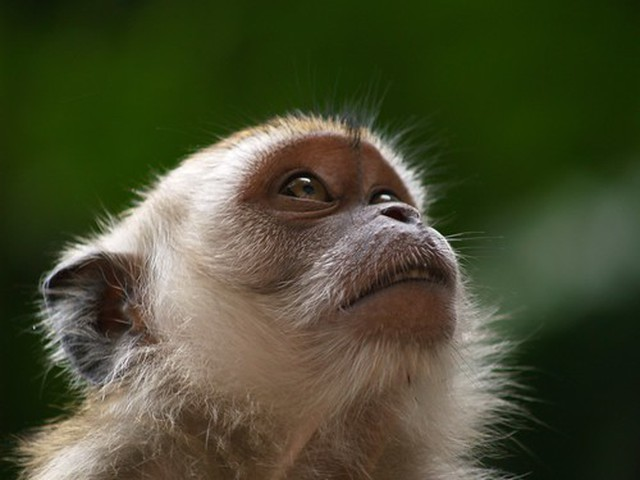Monkey: (12, 110, 553, 480)
